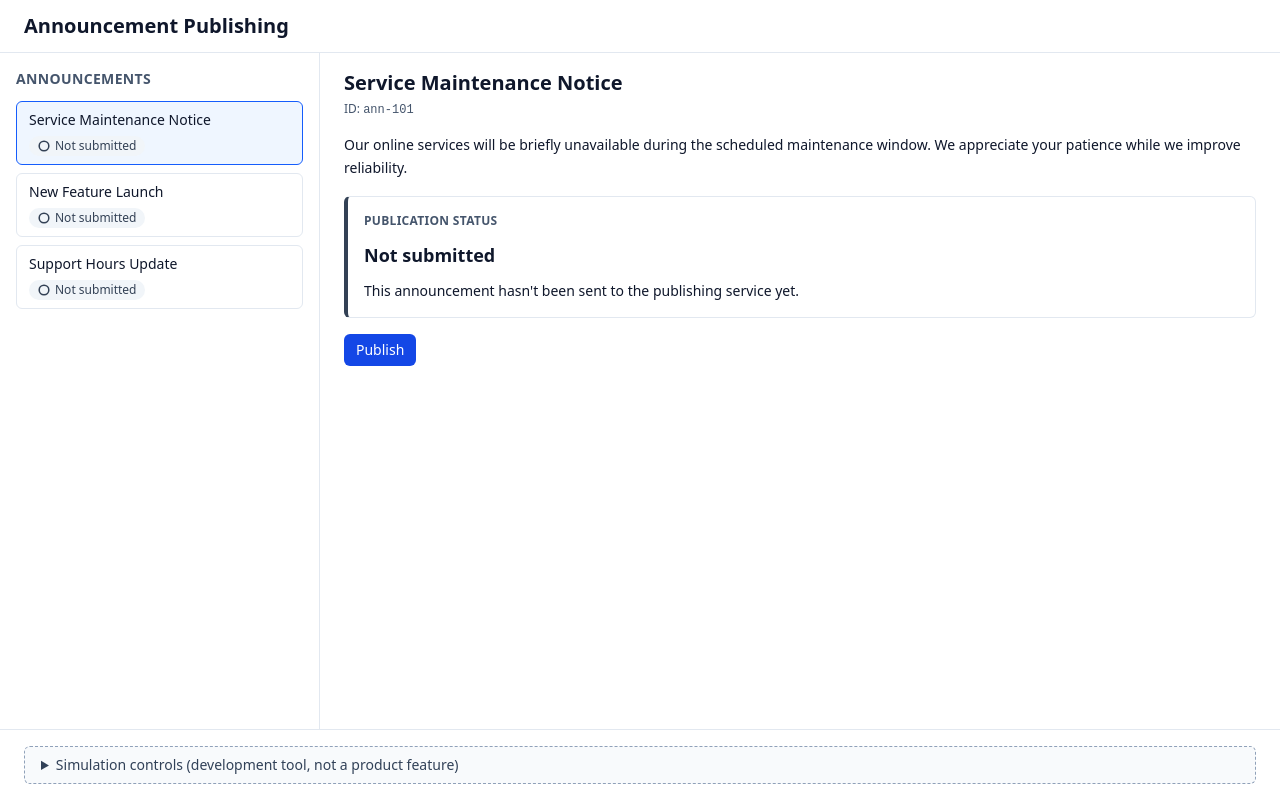
Test: rejected flow › Cancel creates no operation; Confirm creates one
The image size is (1280, 800).
Later steps or results of the test are not shown.
Check: the button "Service Maintenance Notice Not submitted" is shown, box left=16, top=101, right=303, bottom=165
Click the button "Publish".
click(380, 350)  # box left=344, top=334, right=416, bottom=366
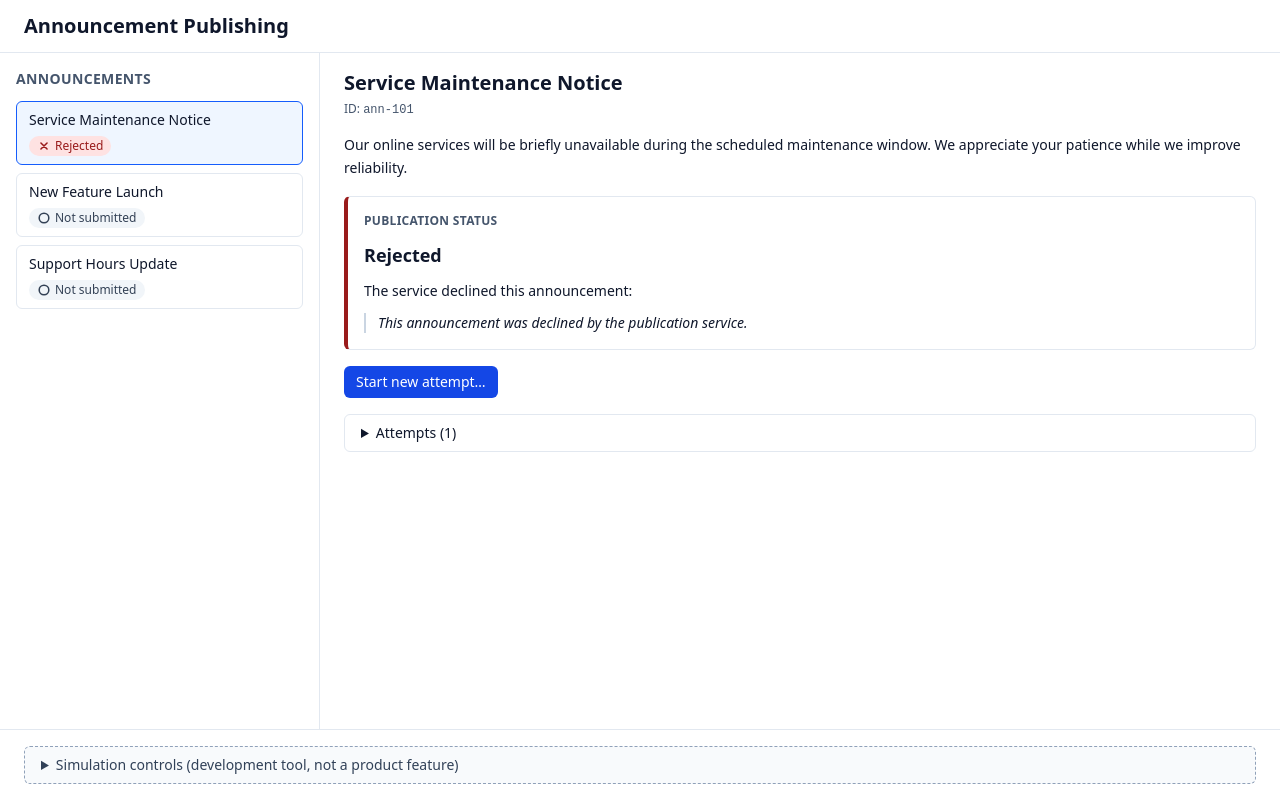
Check: the text "Rejected" is shown, box left=364, top=242, right=442, bottom=266
Click the button "Start new attempt…".
click(421, 382)  # box left=344, top=366, right=498, bottom=398
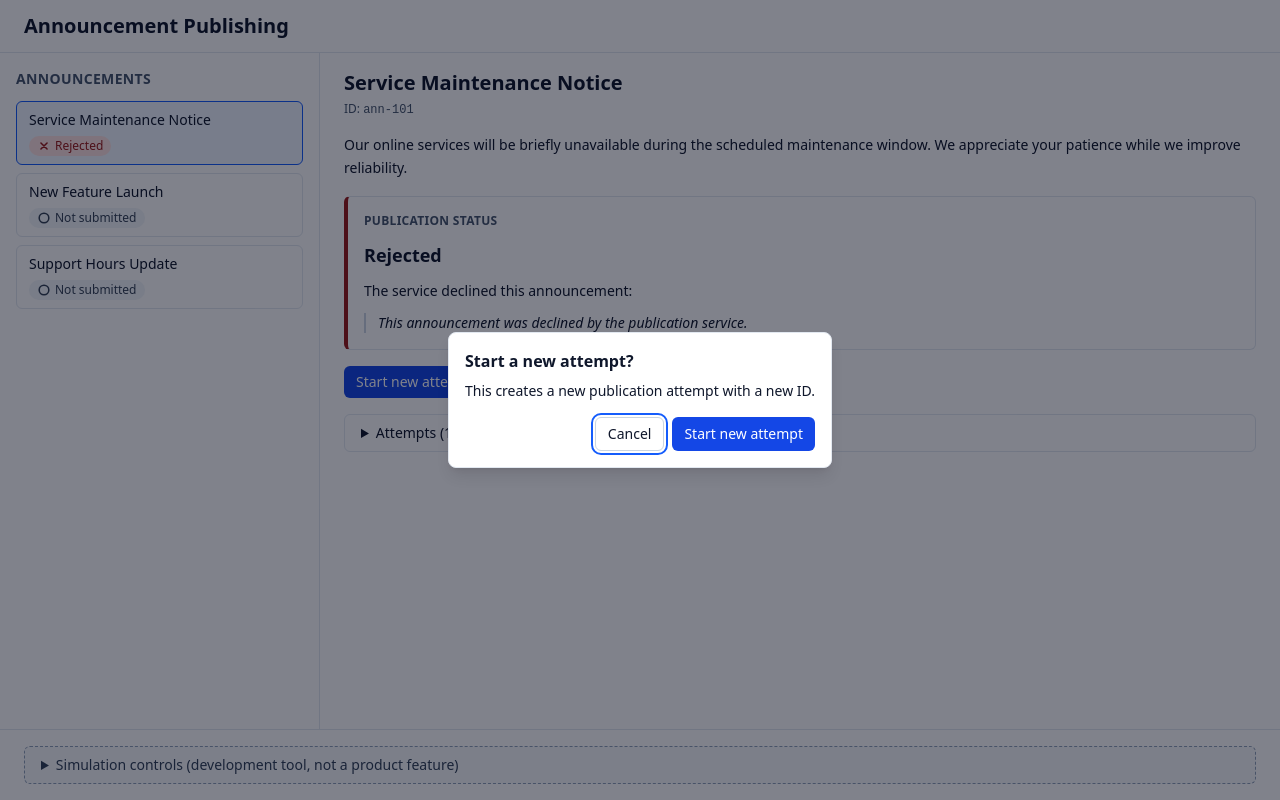
Check: the text "This creates a new publication attempt with a new ID." is shown, box left=465, top=381, right=815, bottom=401
